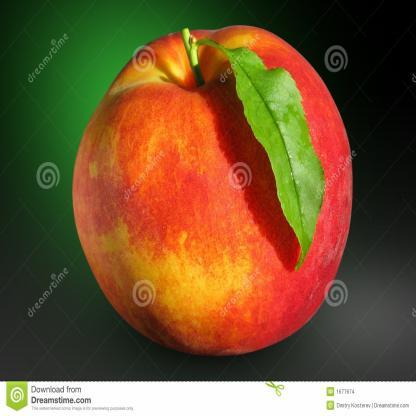Peach leaf: (221, 44, 327, 284)
